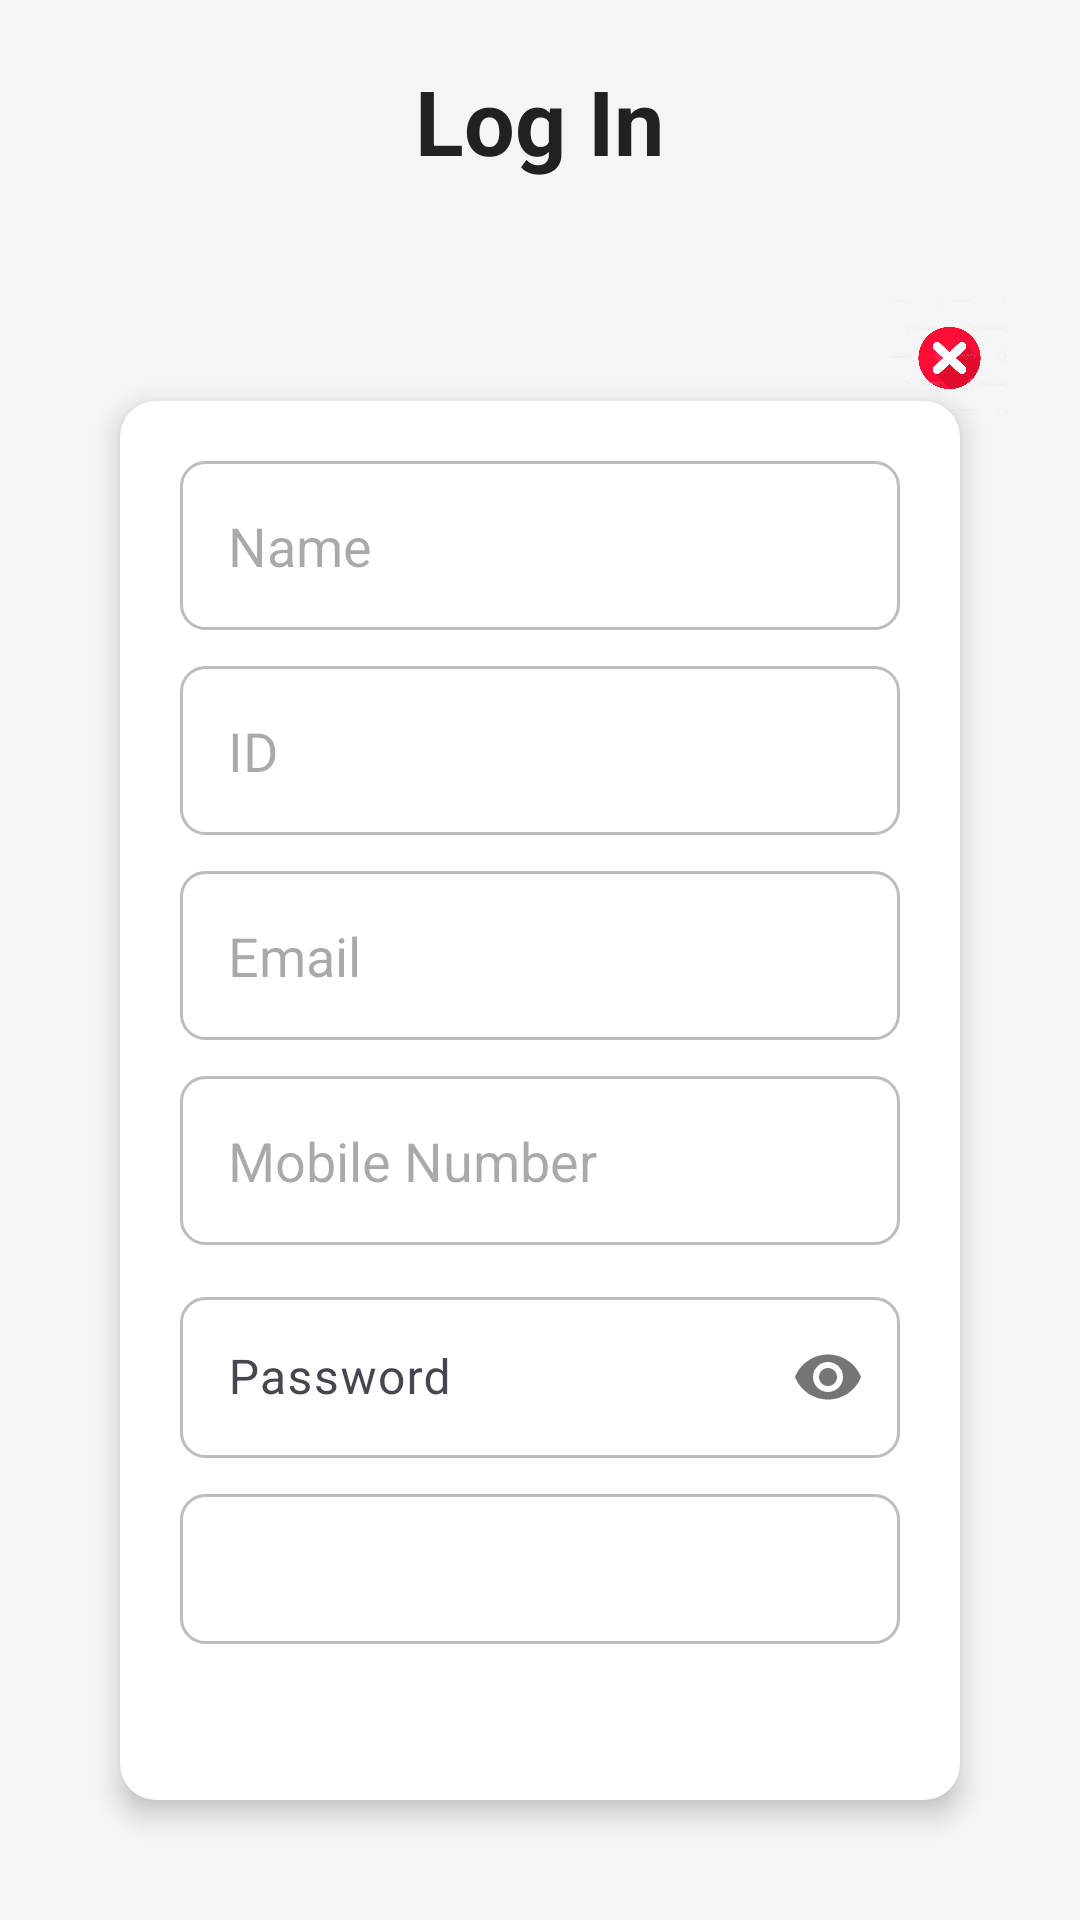

Icons on this 1080w x 1920h Android screen, each with the point to tap as (x=x, y=y):
close: (x=949, y=370)
